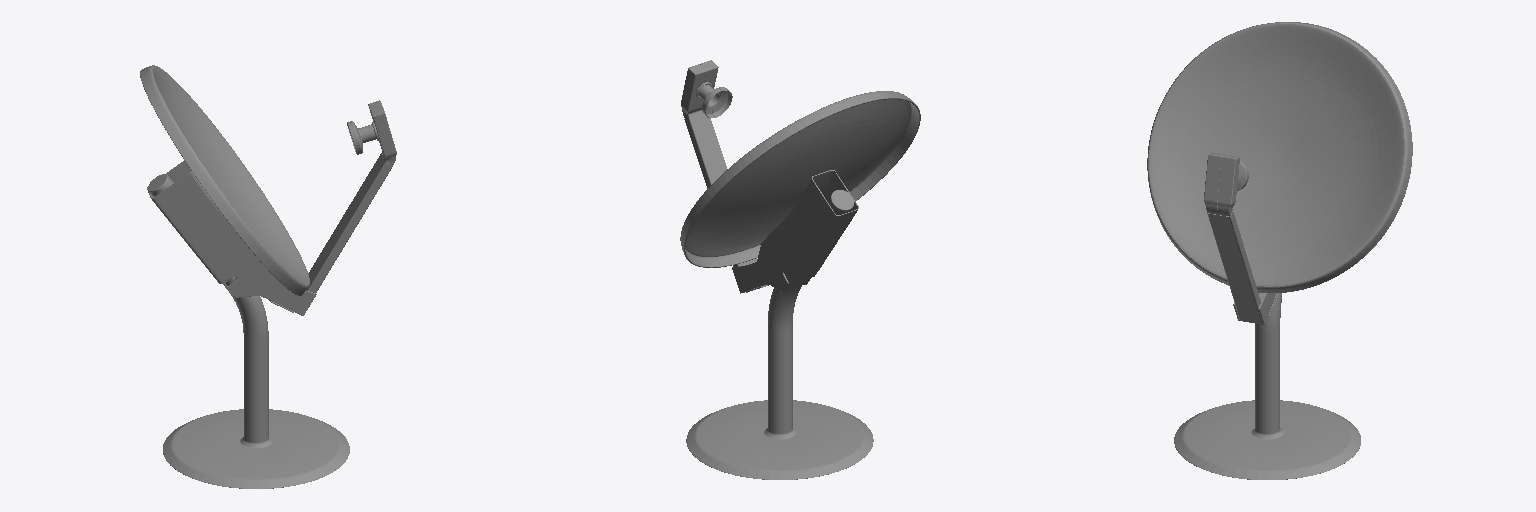
File: antenna.obj
3 renders of one model, left to right at view 1: azimuth 30°, elevation 25°; view 2: azimuth 150°, elevation 25°; view 3: azimuth 270°, elevation 25°, orthographic.
Visible parts, largest first — view 1: archmodels95_003_001; view 2: archmodels95_003_001; view 3: archmodels95_003_001.
Boxes of the visible parts, <box> form: archmodels95_003_001: <box>140,65,396,488</box>; archmodels95_003_001: <box>680,60,920,479</box>; archmodels95_003_001: <box>1147,22,1412,479</box>.
Bounding box in the file's own units: 16.58 × 26.64 × 17.05.